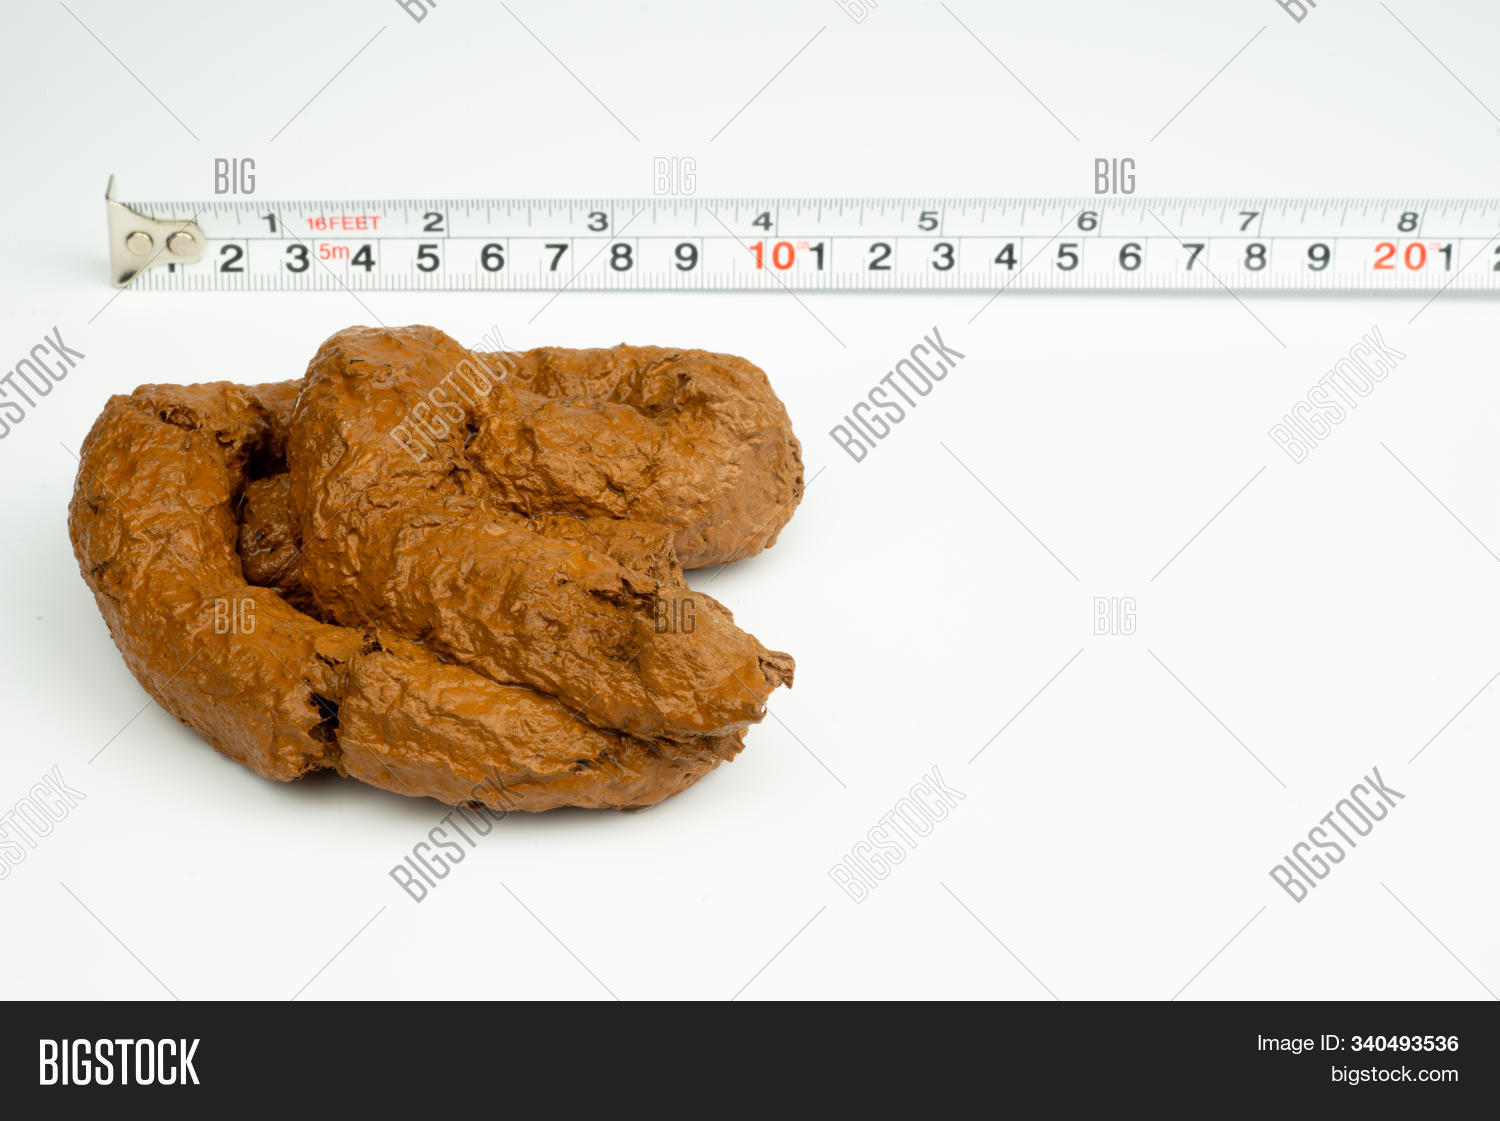Dog: (78, 318, 790, 809)
